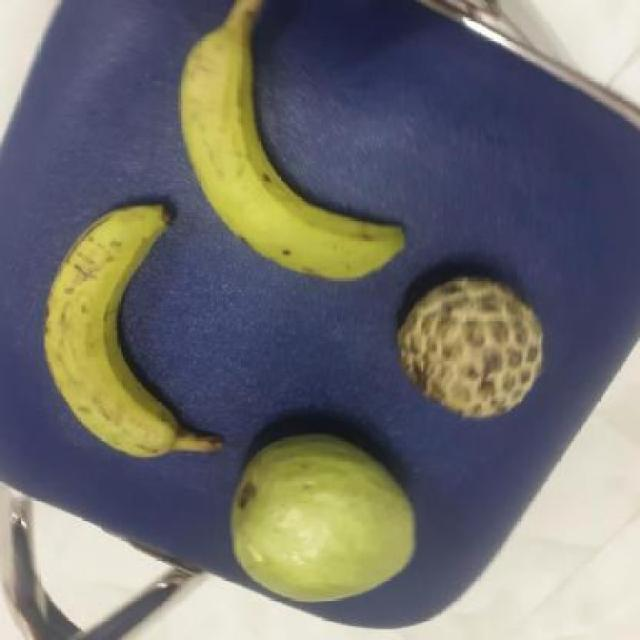banana: (185, 1, 422, 277), (43, 209, 226, 457)
guava: (232, 430, 423, 607), (400, 271, 558, 422)
sugar apple: (399, 273, 553, 418)
